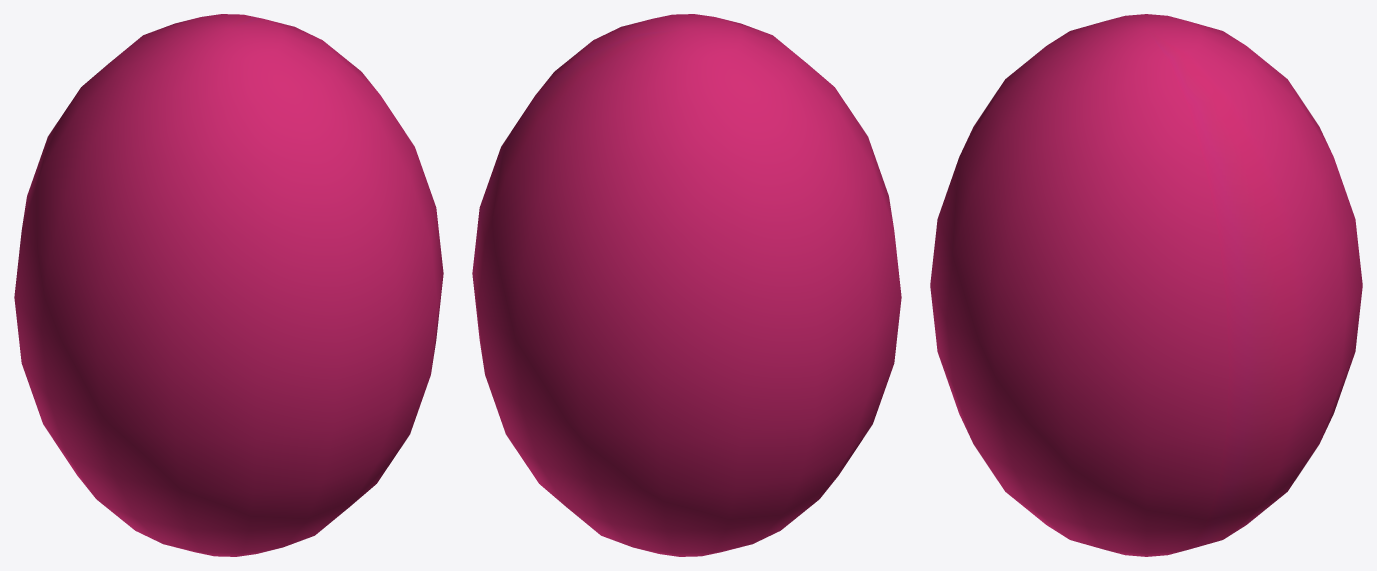
File: egg_20.fbx
The picture shows the model from 3 angles, left to right: view 1: azimuth 30°, elevation 25°; view 2: azimuth 150°, elevation 25°; view 3: azimuth 270°, elevation 25°; orthographic projection.
Parts seen in each view (by area): view 1: egg_20; view 2: egg_20; view 3: egg_20.
Part boxes in pixels (bbox=[...]): egg_20: bbox=[14, 14, 443, 556]; egg_20: bbox=[472, 14, 901, 556]; egg_20: bbox=[930, 14, 1362, 556].
Size of the model in its own units: 9.95 by 13.02 by 9.95.
